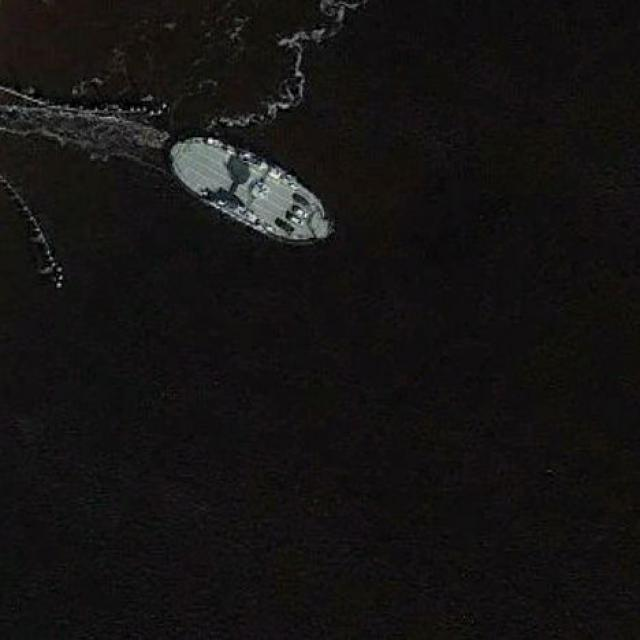boat: (165, 136, 332, 243)
